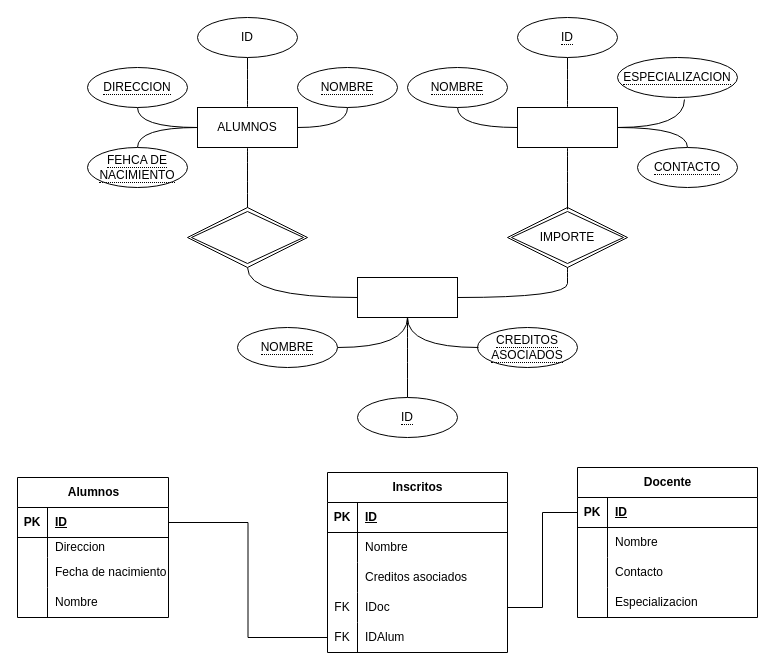
Image size: 775x670. Some labels were removed from this diagram. The centre of each missing label's shape, as x and y in pixels:
CURSOS: the point at 407,297
INCRITOS: the point at 247,237
PROFESOR: the point at 567,127
